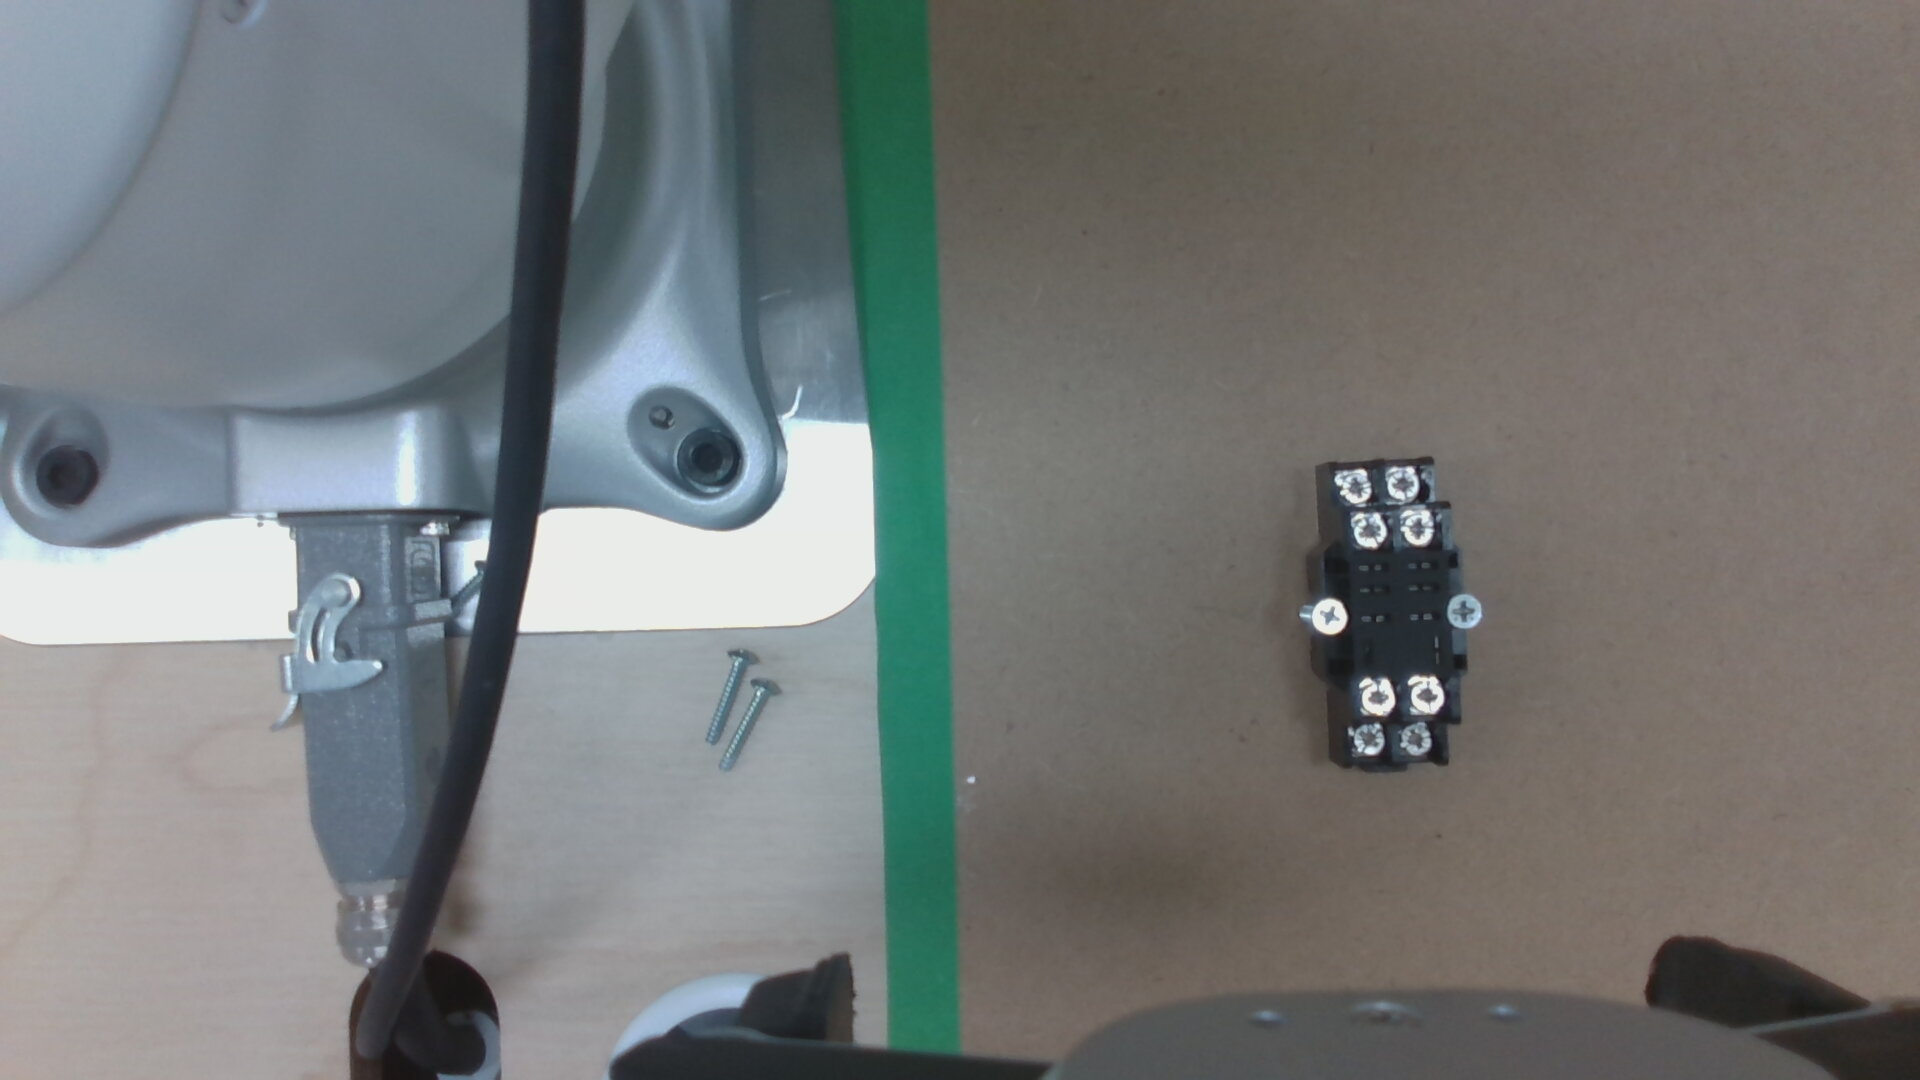relay 3: (1387, 471, 1419, 498)
relay 4: (1336, 473, 1371, 501)
relay 5: (1399, 725, 1432, 756)
relay 6: (1352, 727, 1385, 754)
relay 7: (1408, 679, 1443, 713)
relay 8: (1360, 682, 1394, 713)
